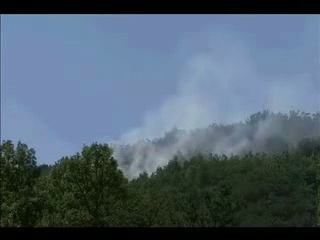smoke: (184, 51, 319, 165), (115, 69, 185, 183)
